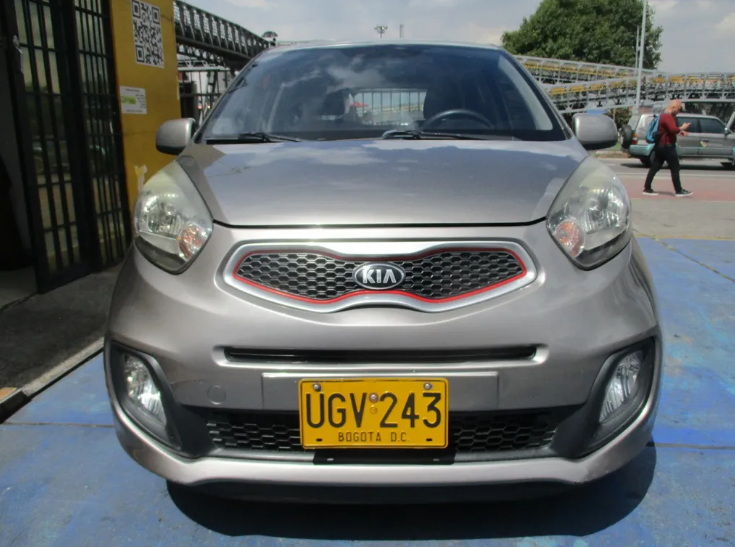placa: (300, 380, 447, 447)
